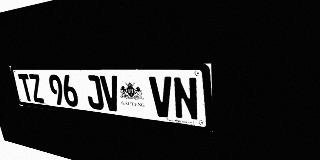6: (60, 75, 79, 107)
9: (47, 74, 66, 106)
J: (84, 75, 105, 110)
N: (172, 77, 199, 121)
T: (18, 74, 34, 102)
V: (149, 76, 174, 118), (100, 75, 122, 112)
Z: (28, 74, 45, 103)
